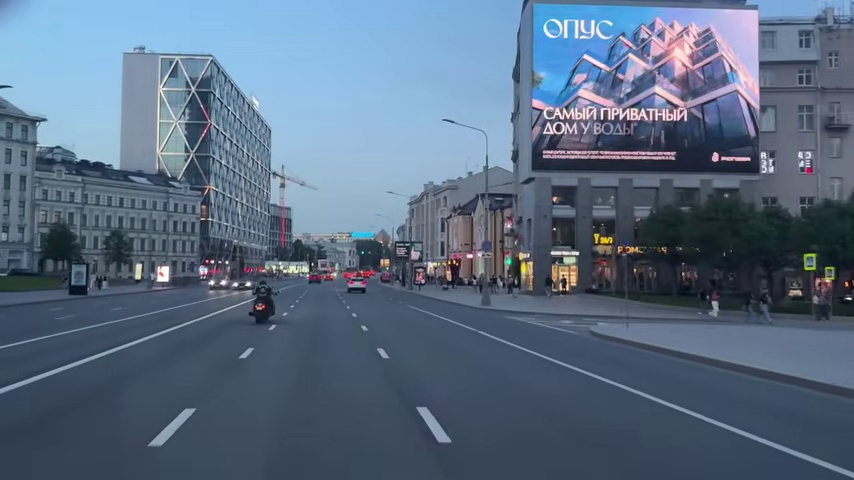apagada: (439, 113, 457, 128)
